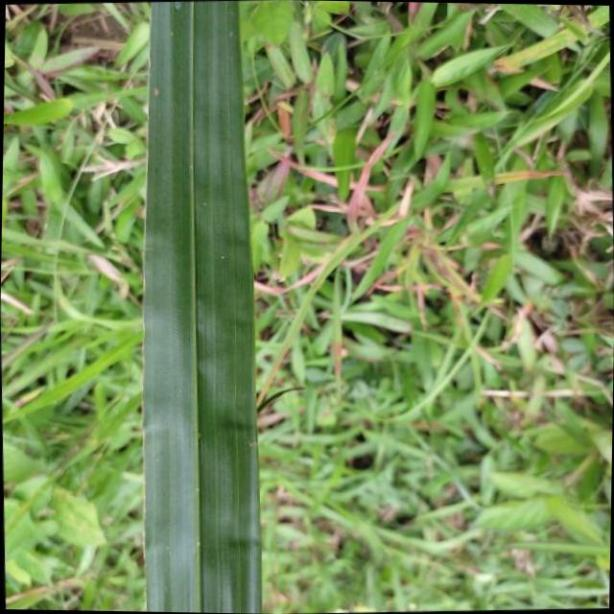Boron: (144, 0, 261, 614)
